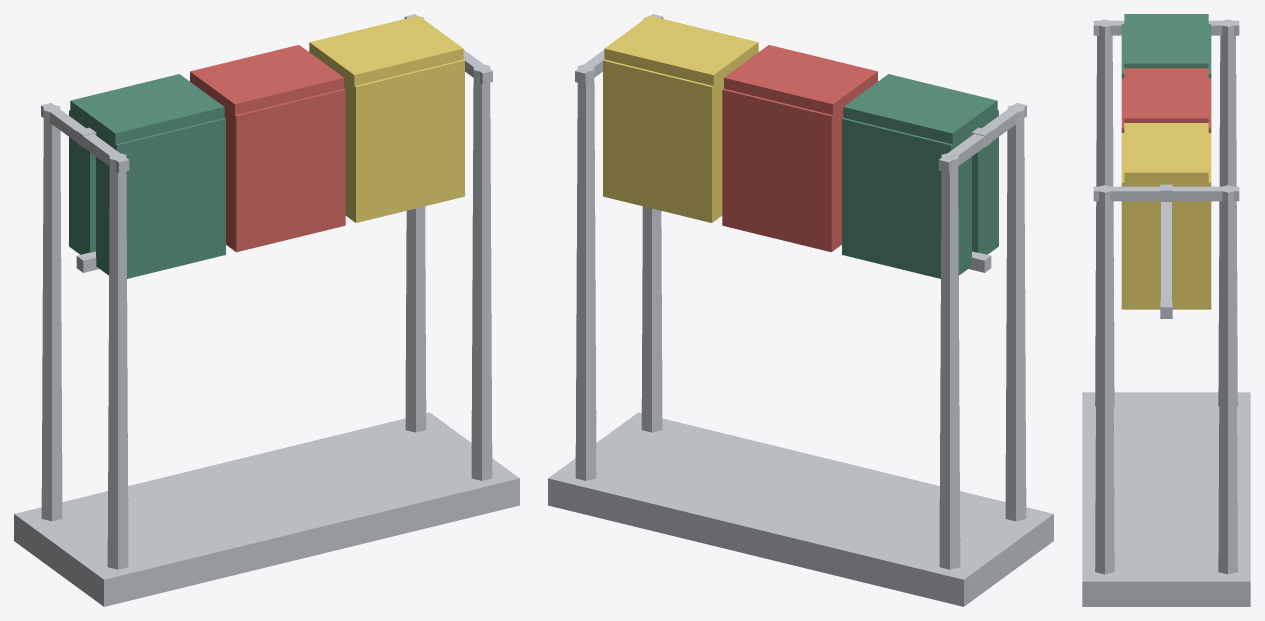
File: racecourse-and-parade-ring-rug-rack-070d9684__38622.glb
3 views of the same model, side by side, from view 1: azimuth 30°, elevation 25°; view 2: azimuth 150°, elevation 25°; view 3: azimuth 270°, elevation 25° (orthographic). The views are drawn at different scales.
Parts seen in each view (by area): view 1: rug-rack; view 2: rug-rack; view 3: rug-rack.
Boxes of the visible parts, x1=… form: rug-rack: x1=14, y1=14, x2=519, y2=606; rug-rack: x1=548, y1=14, x2=1053, y2=606; rug-rack: x1=1082, y1=14, x2=1250, y2=606.
Size of the model in its own units: 1.6 by 1.65 by 0.6.
